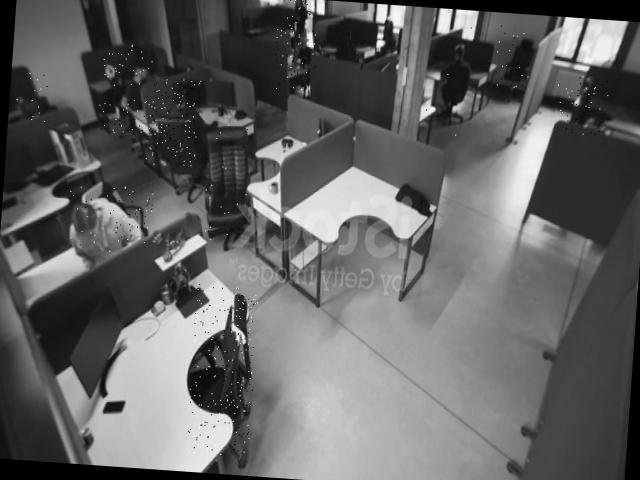empty chair: (184, 284, 260, 456), (202, 120, 257, 242), (553, 74, 609, 141), (494, 25, 534, 97), (106, 185, 154, 243), (13, 70, 55, 124)
occupiedchair: (424, 23, 474, 136), (142, 77, 201, 169), (97, 41, 154, 134), (272, 23, 318, 97)
